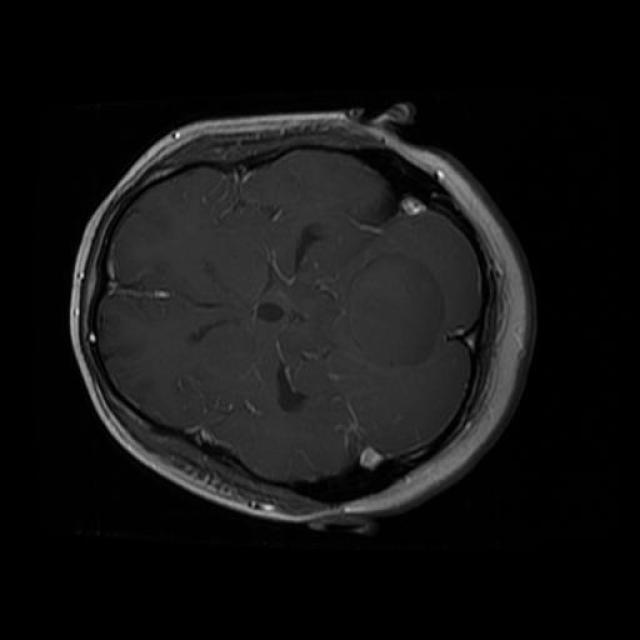Glioma: (350, 253, 444, 366)
